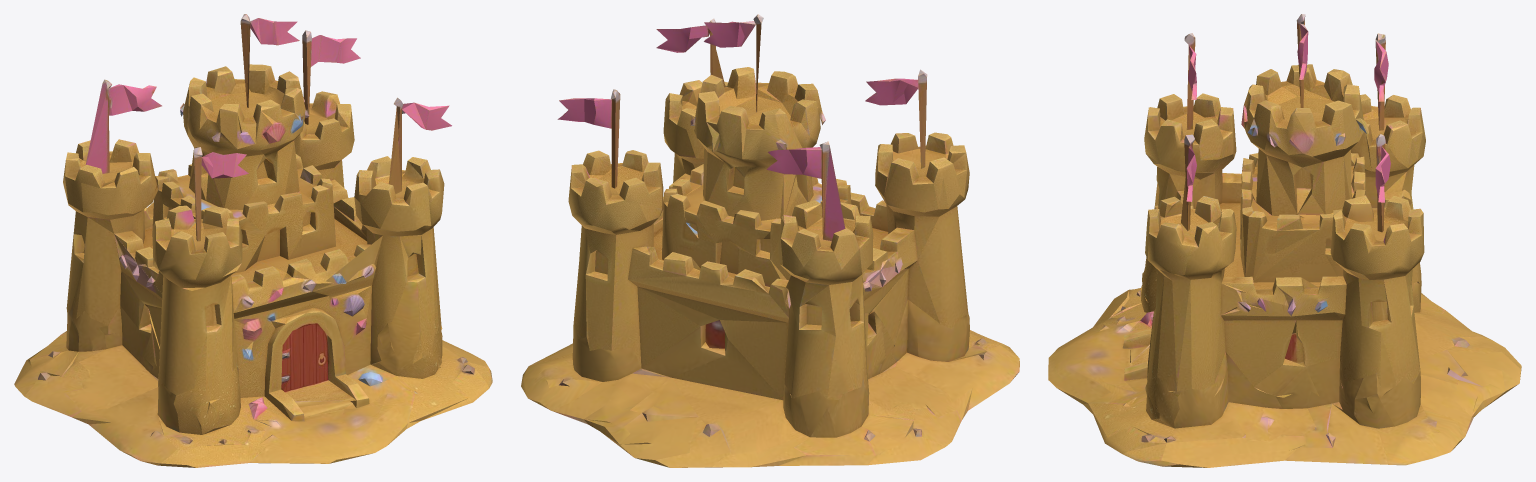
The model's file is sandcastle.glb.
3 views of the same model, side by side, from view 1: azimuth 30°, elevation 25°; view 2: azimuth 150°, elevation 25°; view 3: azimuth 270°, elevation 25° (orthographic). The views are drawn at different scales.
Bounding box in the file's own units: 1.79 × 1.57 × 1.86.
Materials: 1 (1 with a texture image).
